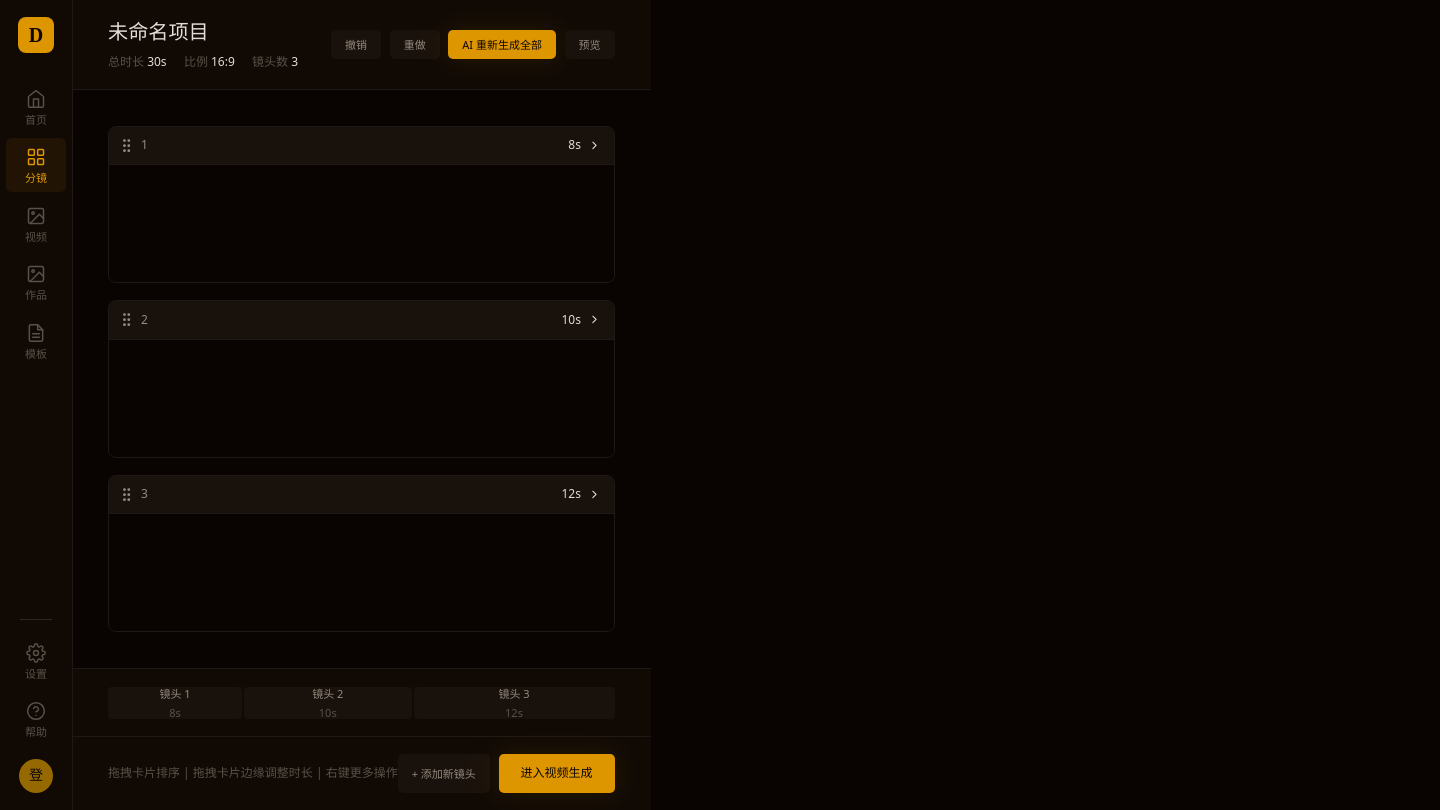
StoryboardPage › 右键菜单 › 点击外部关闭右键菜单
This screenshot has width=1440, height=810.
Right-click the element with class "shot-card" showing "1 8s 镜头描述 运镜方式 音效风格 备注": (361, 204) [108,126,614,283]
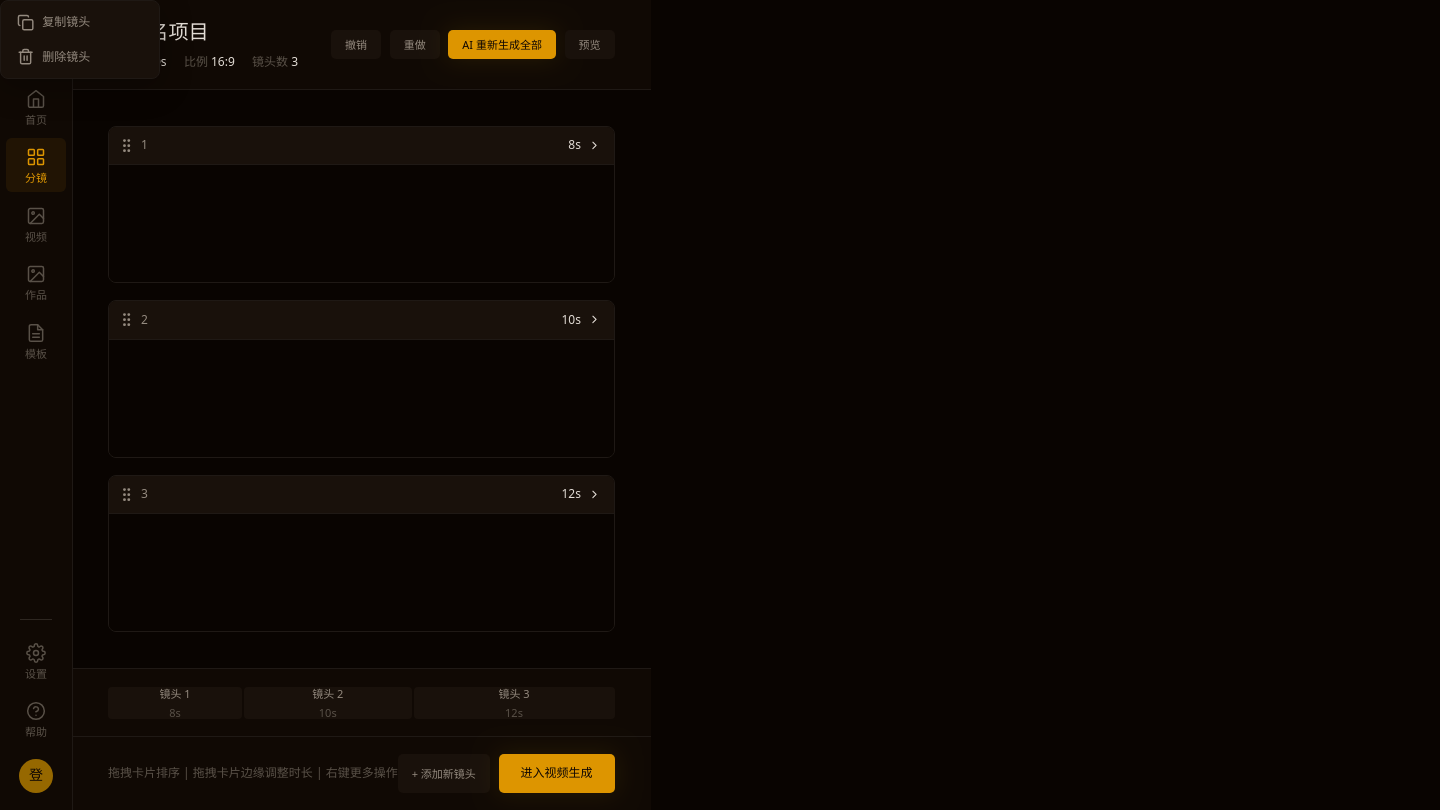
Result: the element with class "context-menu" is shown at [0,0,160,79]
Click the element that starts with "未命名项目": click(720, 405) [0,0,1439,809]
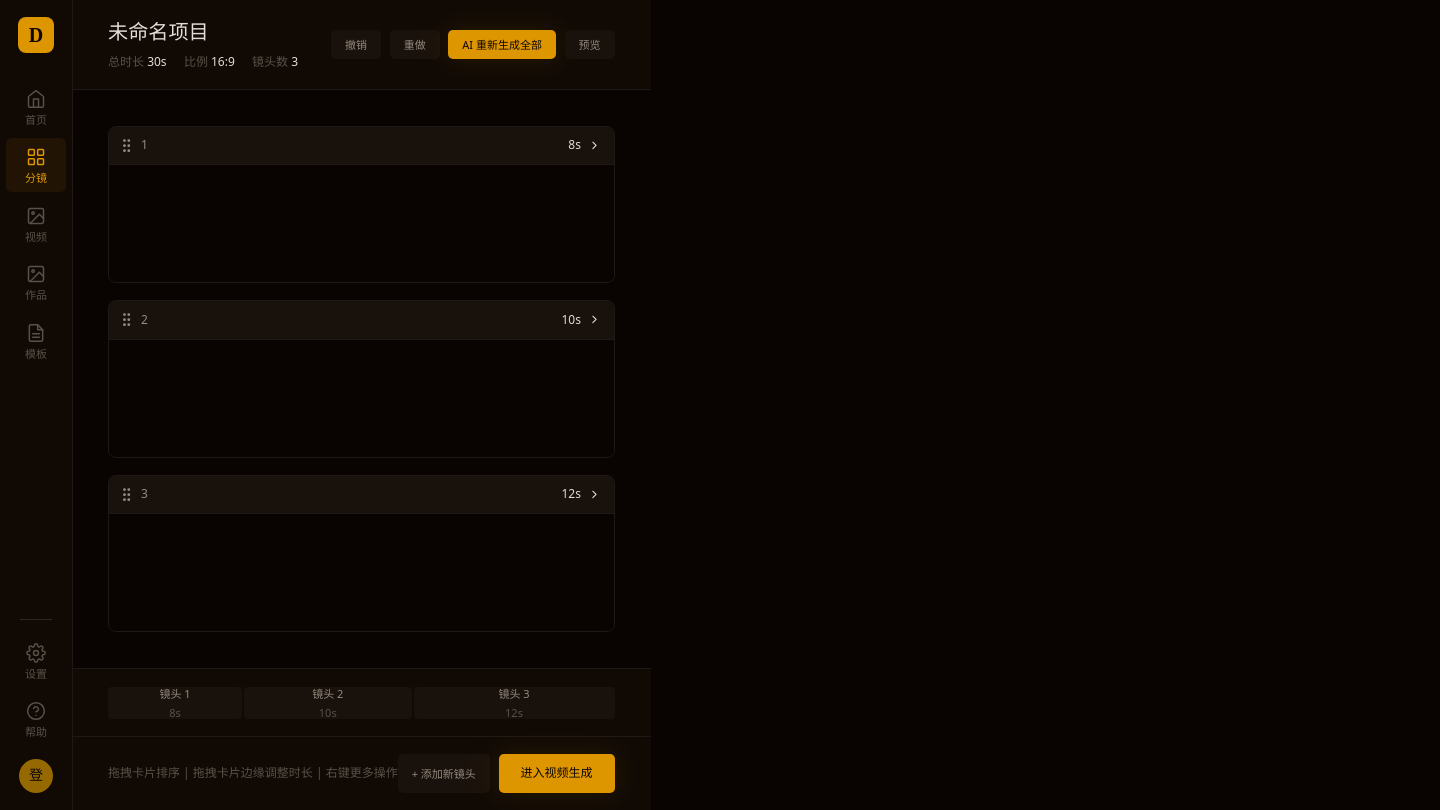
Result: the element with class "context-menu" is gone
